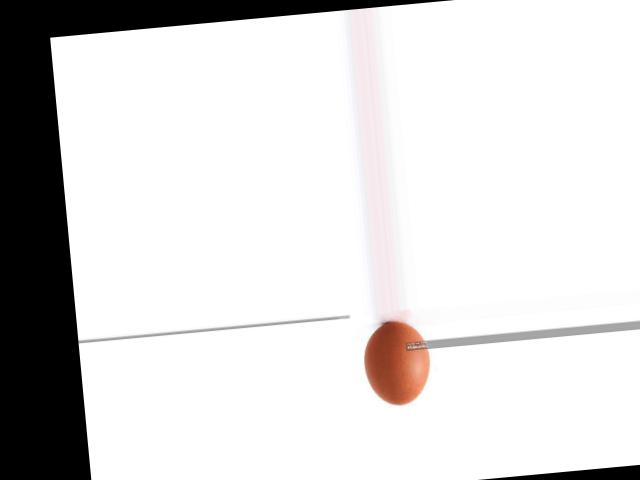egg: (361, 320, 434, 407)
